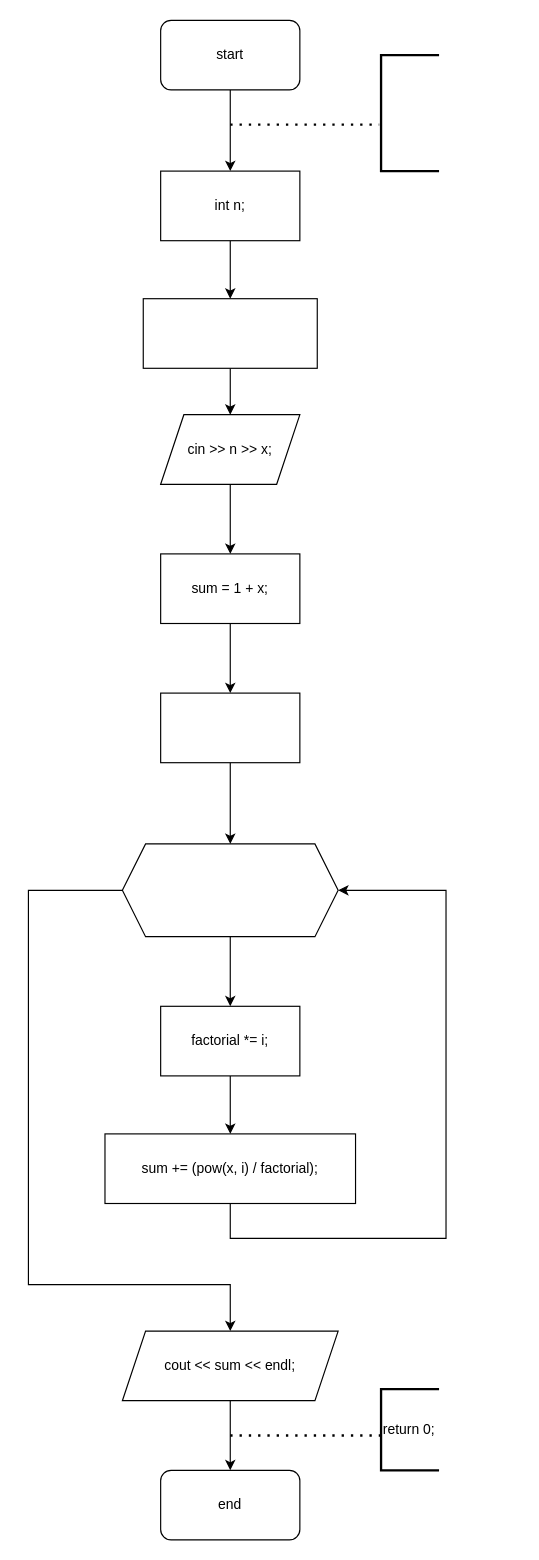
Image size: 539x1560. Some labels were removed from this diagram. Here are the shapes that lost their labels. From the top down, the box of each, then its label:
(379, 53, 440, 172): #include <iostream> #include <cmath> using namespace std; int main ()
(142, 298, 317, 368): float x, factorial, sum;
(160, 692, 300, 763): factorial = 1;
(121, 843, 338, 937): for (int i = 2; i <= n; i++)
